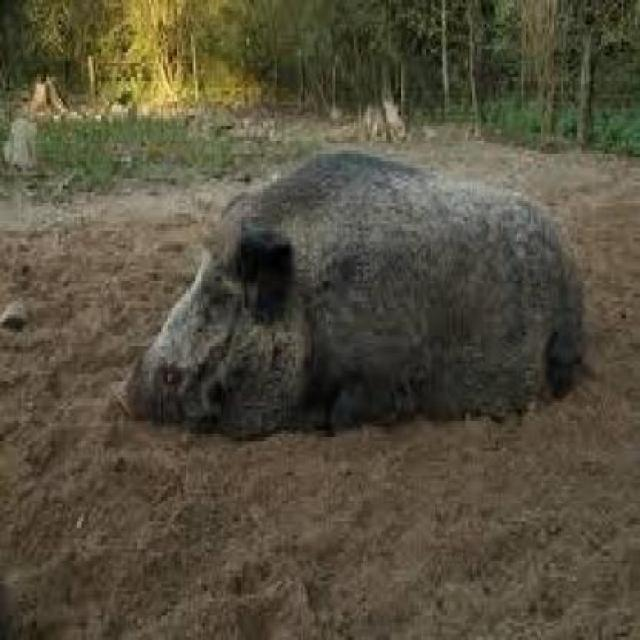wildboar: (112, 143, 592, 440)
